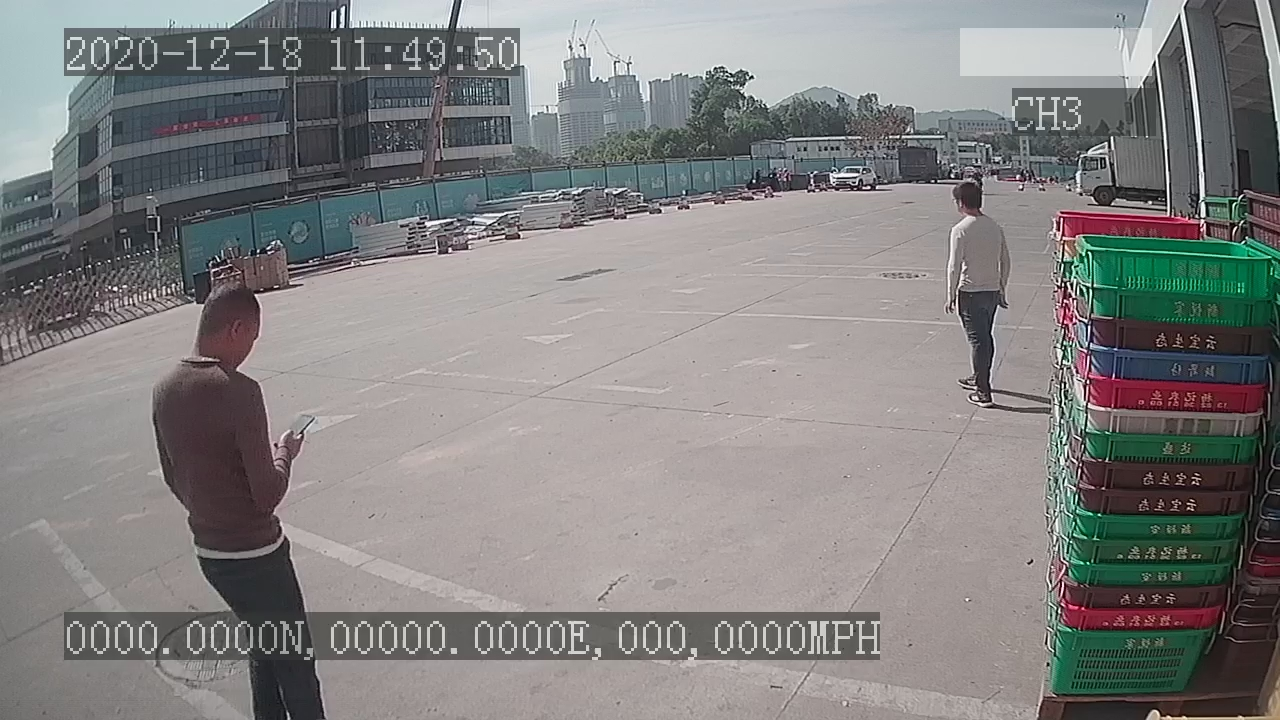person: (934, 177, 1015, 411)
